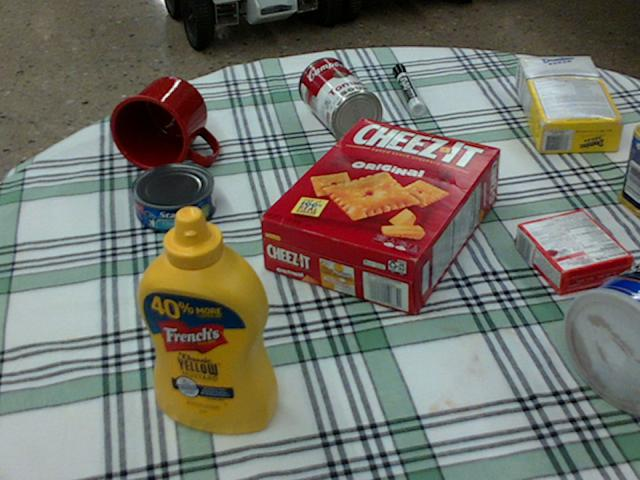cracker_box: (259, 119, 502, 314)
gelatin_box: (515, 208, 630, 291)
large_marker: (392, 64, 423, 114)
master_chef_can: (566, 262, 639, 414)
mug: (109, 76, 217, 171)
mustard_bottle: (136, 205, 279, 432)
potted_meat_can: (616, 123, 639, 216)
sugar_box: (516, 56, 624, 153)
tomato_soup_can: (298, 56, 382, 140)
tuna_fish_can: (129, 162, 214, 231)
